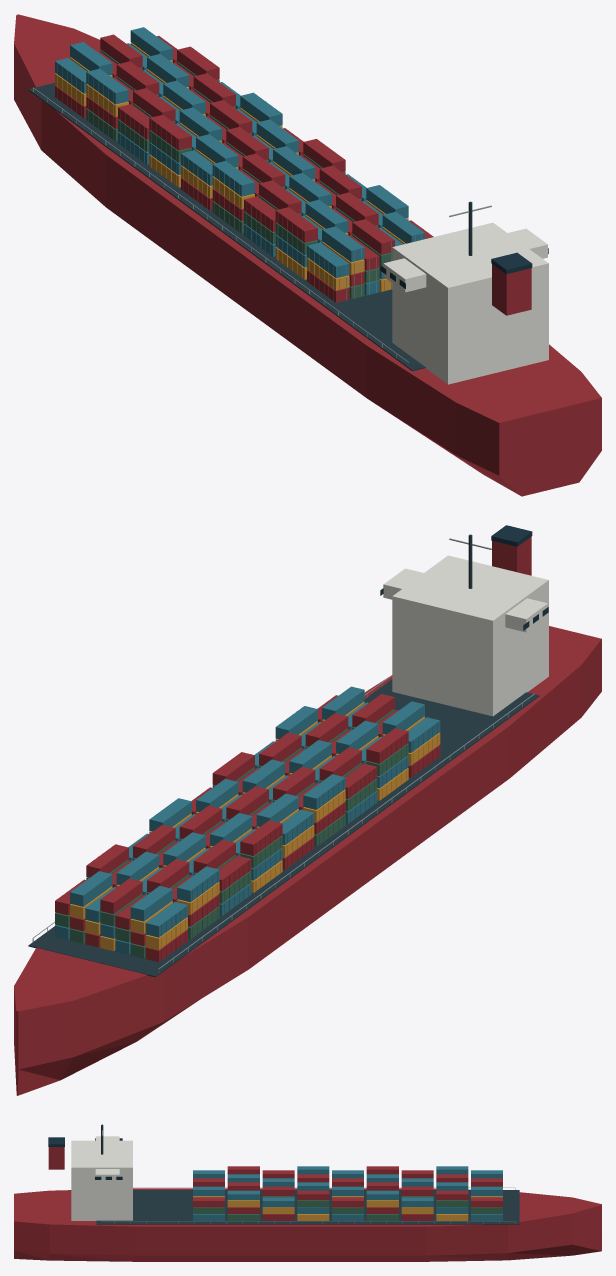
Rendered from cargo.glb.
3 renders of one model, top to bottom at view 1: azimuth 30°, elevation 25°; view 2: azimuth 150°, elevation 25°; view 3: azimuth 270°, elevation 25°, orthographic. The views are drawn at different scales.
Parts seen in each view (by area): view 1: cargo-material-0, cargo-material-2, cargo-material-5, cargo-material-3, cargo-material-4, cargo-material-6, cargo-material-7, cargo-material-1; view 2: cargo-material-0, cargo-material-2, cargo-material-5, cargo-material-3, cargo-material-4, cargo-material-6, cargo-material-7, cargo-material-1; view 3: cargo-material-0, cargo-material-5, cargo-material-2, cargo-material-3, cargo-material-6, cargo-material-4, cargo-material-7, cargo-material-1.
Part boxes in pixels (x1,y1,x2,y2): cargo-material-0: (14,14,601,496); cargo-material-2: (383,222,548,384); cargo-material-5: (55,27,424,295); cargo-material-3: (28,83,472,371); cargo-material-4: (55,42,408,291); cargo-material-6: (86,50,392,299); cargo-material-7: (32,87,491,362); cargo-material-1: (380,248,548,288); cargo-material-0: (14,536,601,1095); cargo-material-2: (383,555,548,716); cargo-material-5: (55,686,440,954); cargo-material-3: (28,534,539,977); cargo-material-4: (70,702,440,951); cargo-material-6: (55,709,408,958); cargo-material-7: (32,538,534,972); cargo-material-1: (380,525,548,630); cargo-material-0: (14,1147,601,1261); cargo-material-5: (193,1166,502,1220); cargo-material-2: (71,1136,132,1220); cargo-material-3: (96,1124,519,1224); cargo-material-6: (193,1196,502,1220); cargo-material-4: (193,1196,502,1220); cargo-material-7: (101,1124,515,1223); cargo-material-1: (48,1137,122,1179).
Size of the model in its own units: 34.13 by 52 by 220.
